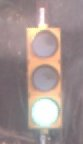Green: (17, 21, 74, 132)
